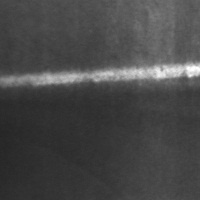scratches: (0, 61, 199, 90)
